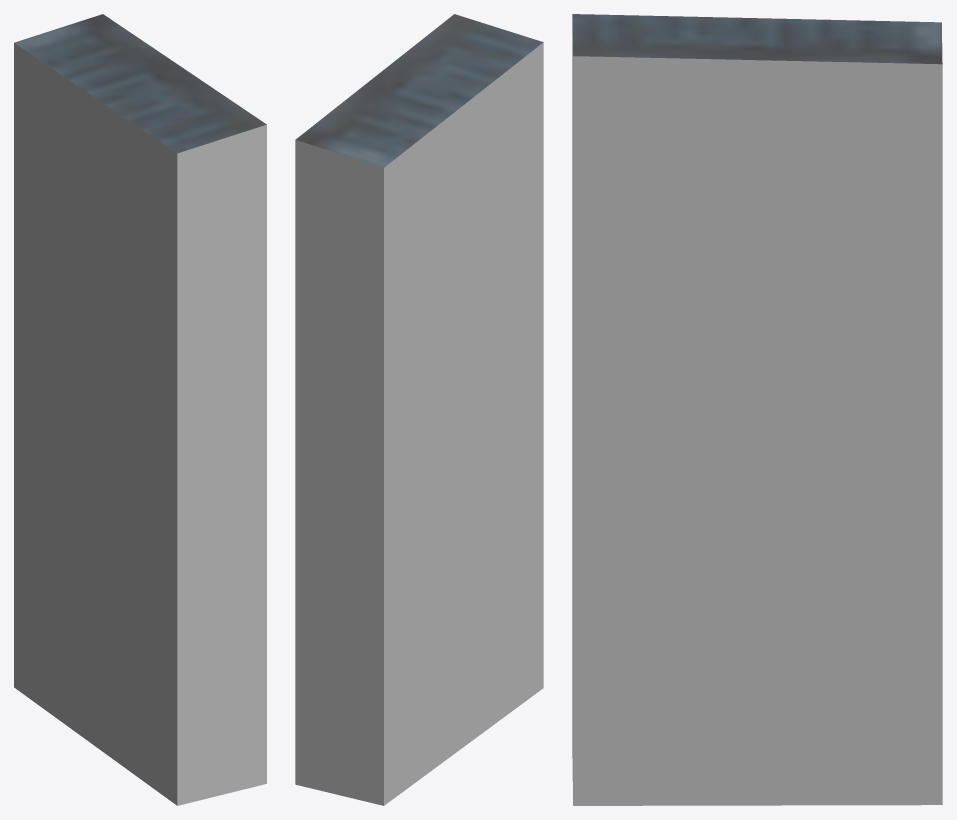
File: DEBW_0010007THX7.gltf
The picture shows the model from 3 angles, left to right: view 1: azimuth 30°, elevation 25°; view 2: azimuth 150°, elevation 25°; view 3: azimuth 270°, elevation 25°; orthographic projection. The views are drawn at different scales.
Visible parts, largest first — view 1: Z_UP; view 2: Z_UP; view 3: Z_UP.
Part boxes in pixels (x1,y1,x2,y2): Z_UP: [14, 14, 266, 805]; Z_UP: [295, 14, 543, 805]; Z_UP: [572, 14, 942, 805].
Size of the model in its own units: 1.71 by 11.85 by 5.3.
Materials: 2 (1 with a texture image).
